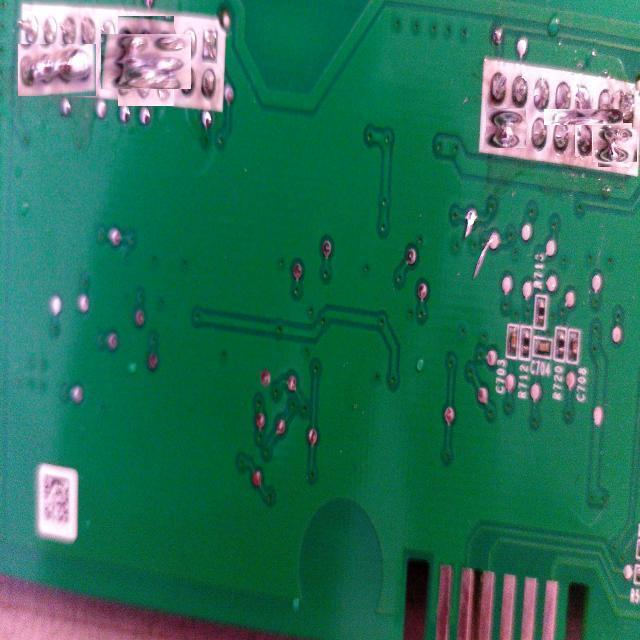Short_circuit: (110, 25, 183, 97), (18, 44, 96, 96), (560, 92, 608, 140), (486, 108, 526, 148), (596, 126, 634, 164)
